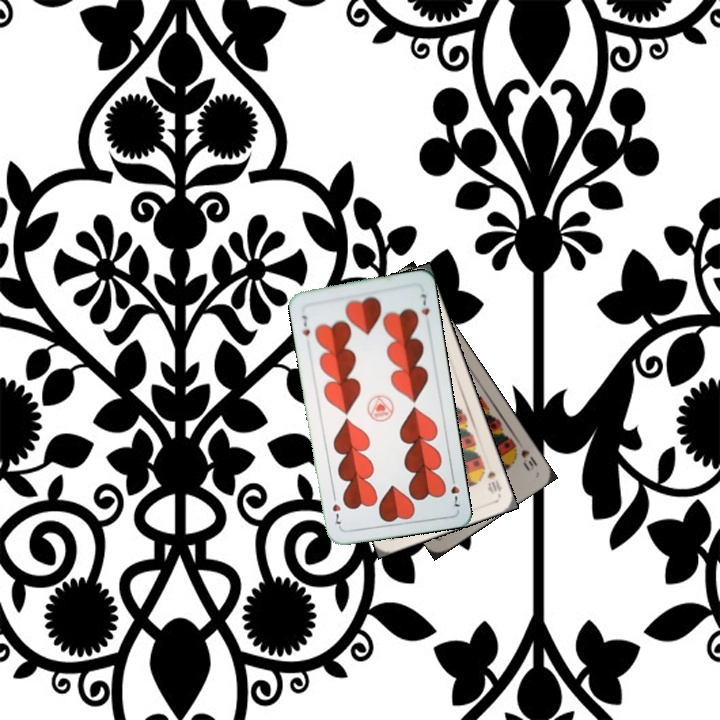H7: (447, 471, 462, 509), (298, 311, 312, 338)
S10: (483, 466, 505, 497), (517, 446, 540, 473)
